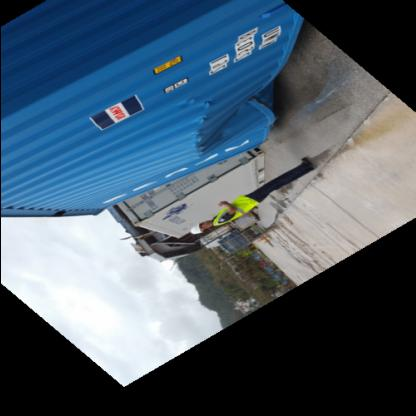Damage: (99, 166, 182, 198), (216, 147, 264, 200), (358, 74, 404, 107), (366, 155, 400, 177), (278, 164, 315, 182), (226, 113, 248, 137), (110, 270, 132, 290), (98, 234, 118, 254), (123, 304, 145, 322), (141, 323, 157, 347)
